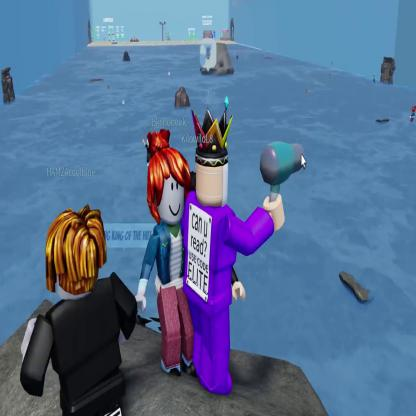Roblox-Avatar: (182, 95, 286, 396), (21, 204, 139, 416), (136, 130, 198, 378)
